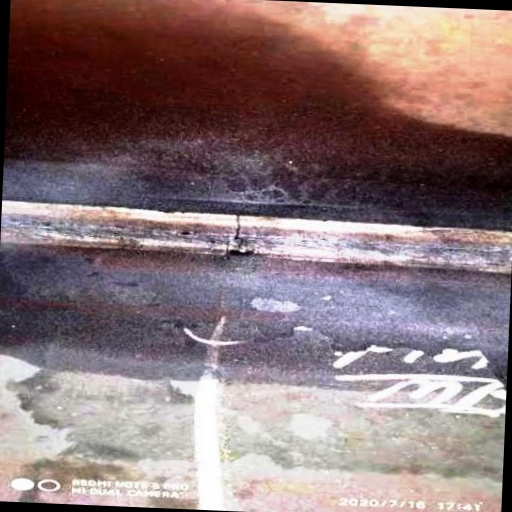crack: (230, 212, 247, 244)
